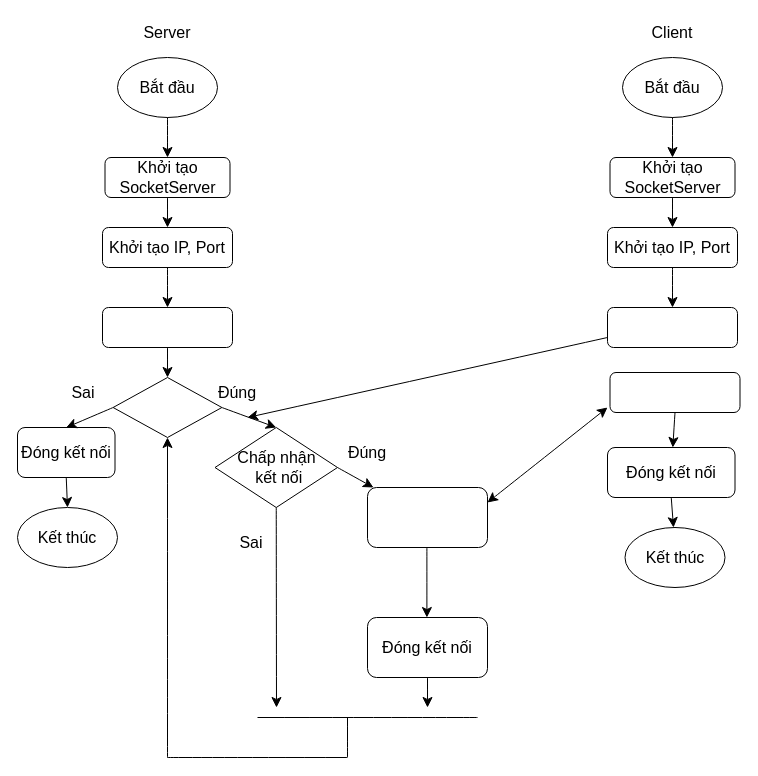
Some shapes in this 758 by 776 pixel diagram are drawn without their labels. The shapes that lost their labels are listed below. From the top down, each one's box as (x1, y1, x2, y2) in pixels, then its label:
(102, 306, 232, 348): Lắng nghe kết nối
(606, 306, 738, 348): Kết nối IP, Port của Server
(112, 376, 222, 438): Run Sever
(609, 372, 740, 412): Truyền tin Nhận tin
(366, 486, 488, 548): Nhận tin Truyền tin
